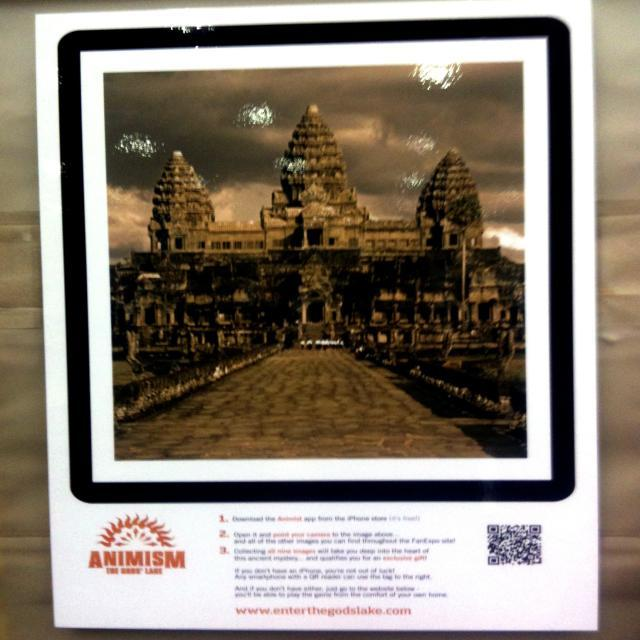qr-code: (488, 524, 542, 566)
